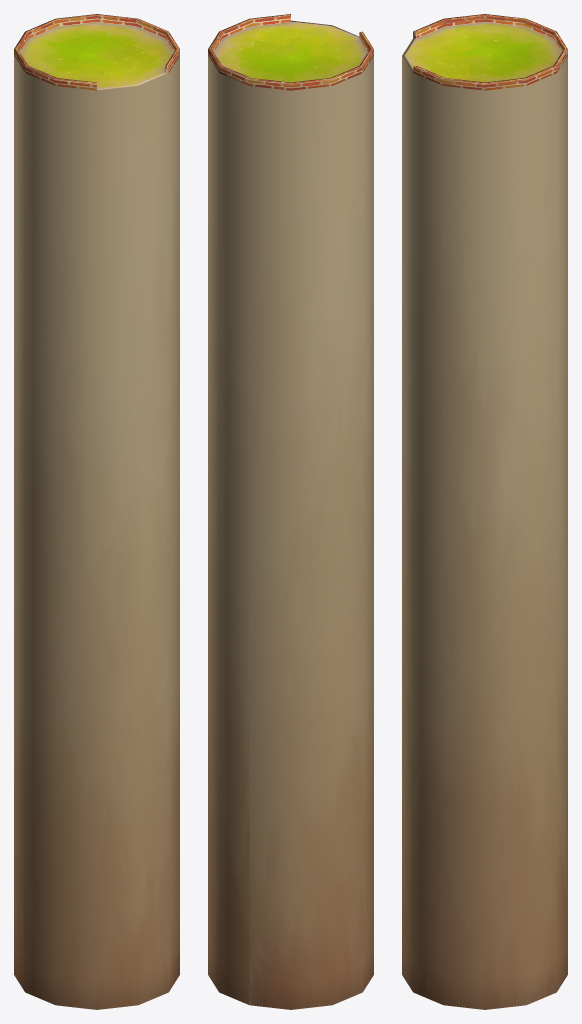
3 renders of one model, left to right at view 1: azimuth 30°, elevation 25°; view 2: azimuth 150°, elevation 25°; view 3: azimuth 270°, elevation 25°, orthographic.
Visible parts, largest first — view 1: kyotenn; view 2: kyotenn; view 3: kyotenn.
Part boxes in pixels (bbox=[...]): kyotenn: bbox=[14, 14, 179, 1009]; kyotenn: bbox=[208, 14, 373, 1009]; kyotenn: bbox=[402, 14, 567, 1009].
Size of the model in its own units: 349 by 2152 by 349.
1 material, 1 textured.
